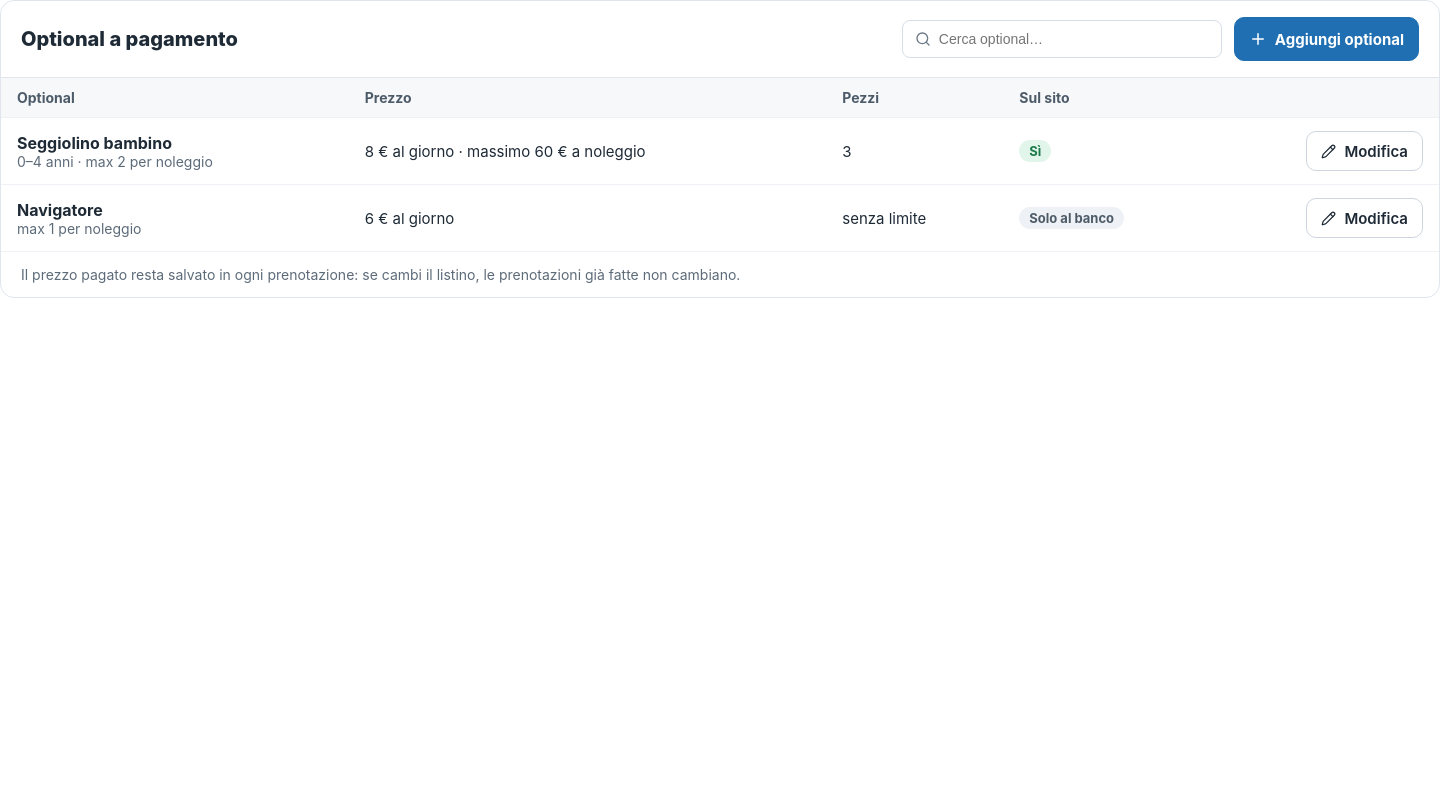
Test: le quantita' si cambiano di uno in uno con − e +
Click the button "Aggiungi optional": (1326, 39) [1234,17,1419,61]
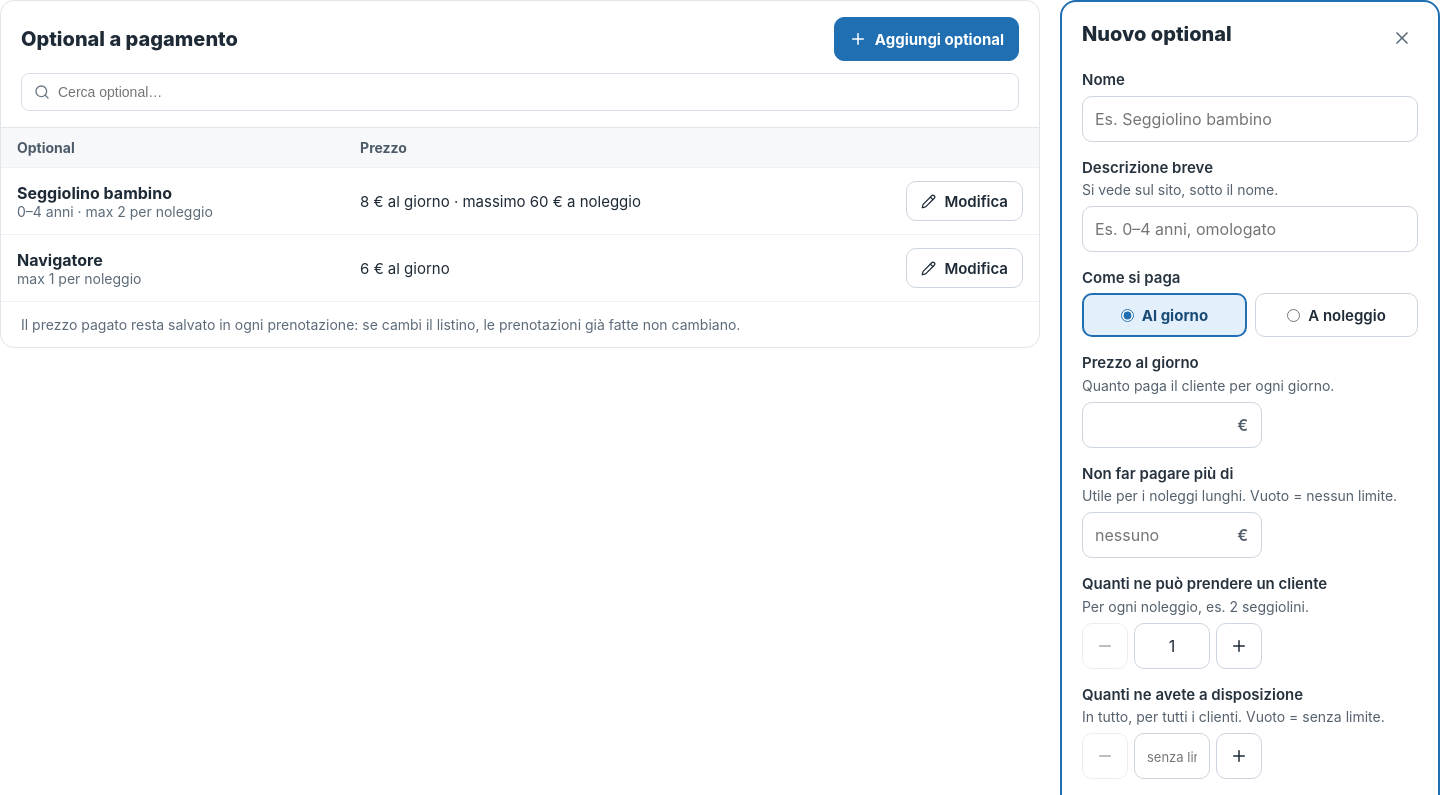
Expected: the button named "Uno in meno, per cliente" is disabled, [1082,623,1128,669]
Expected: the field labelled "Quanti ne può prendere un cliente" holds "1", [1134,623,1210,669]
Click the button named "Uno in più, per cliente": (1239, 646) [1216,623,1262,669]
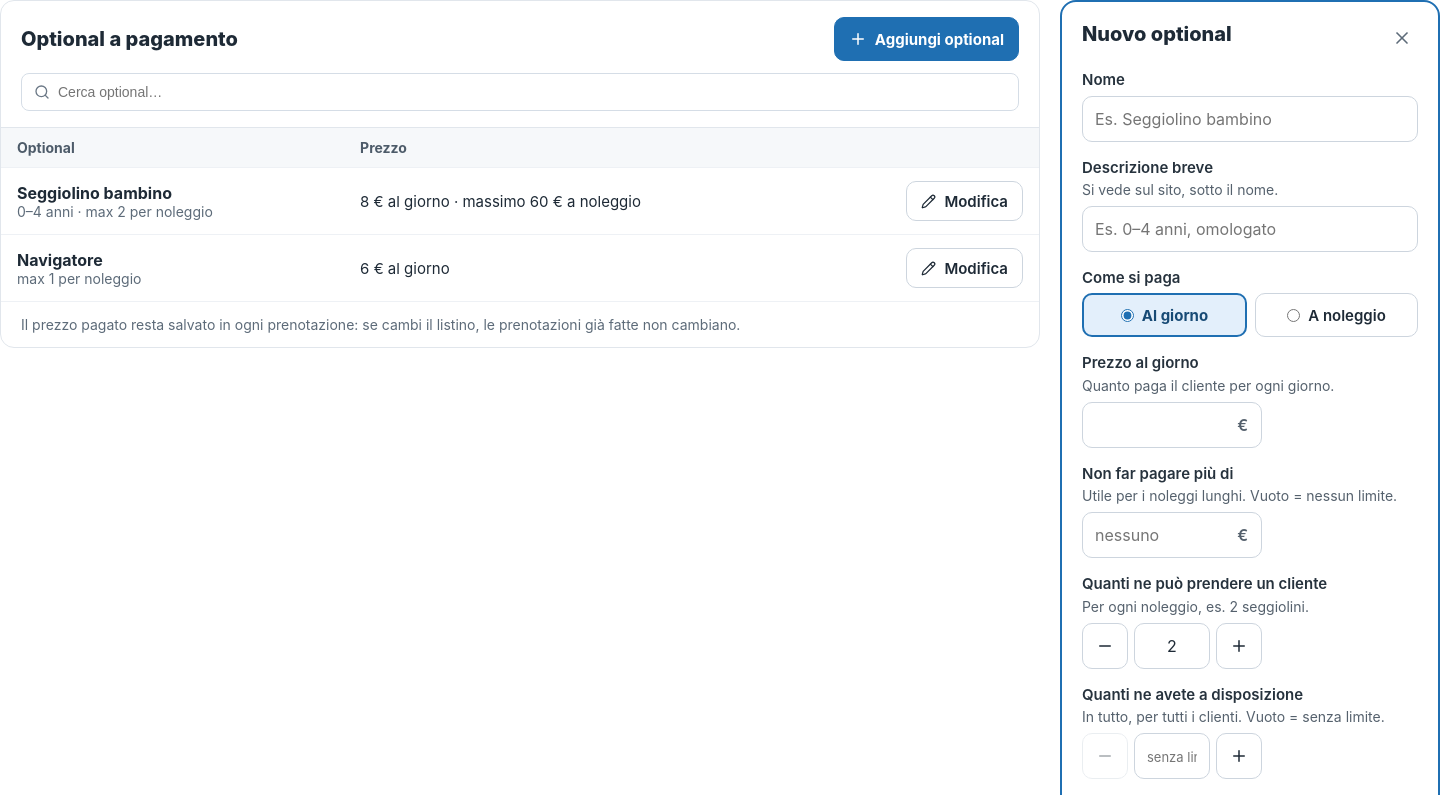
Expected: the field labelled "Quanti ne avete a disposizione" is empty, [1134,733,1210,779]
Expected: the field labelled "Quanti ne può prendere un cliente" holds "2", [1134,623,1210,669]
Click the button named "Uno in più, a disposizione": (1239, 756) [1216,733,1262,779]
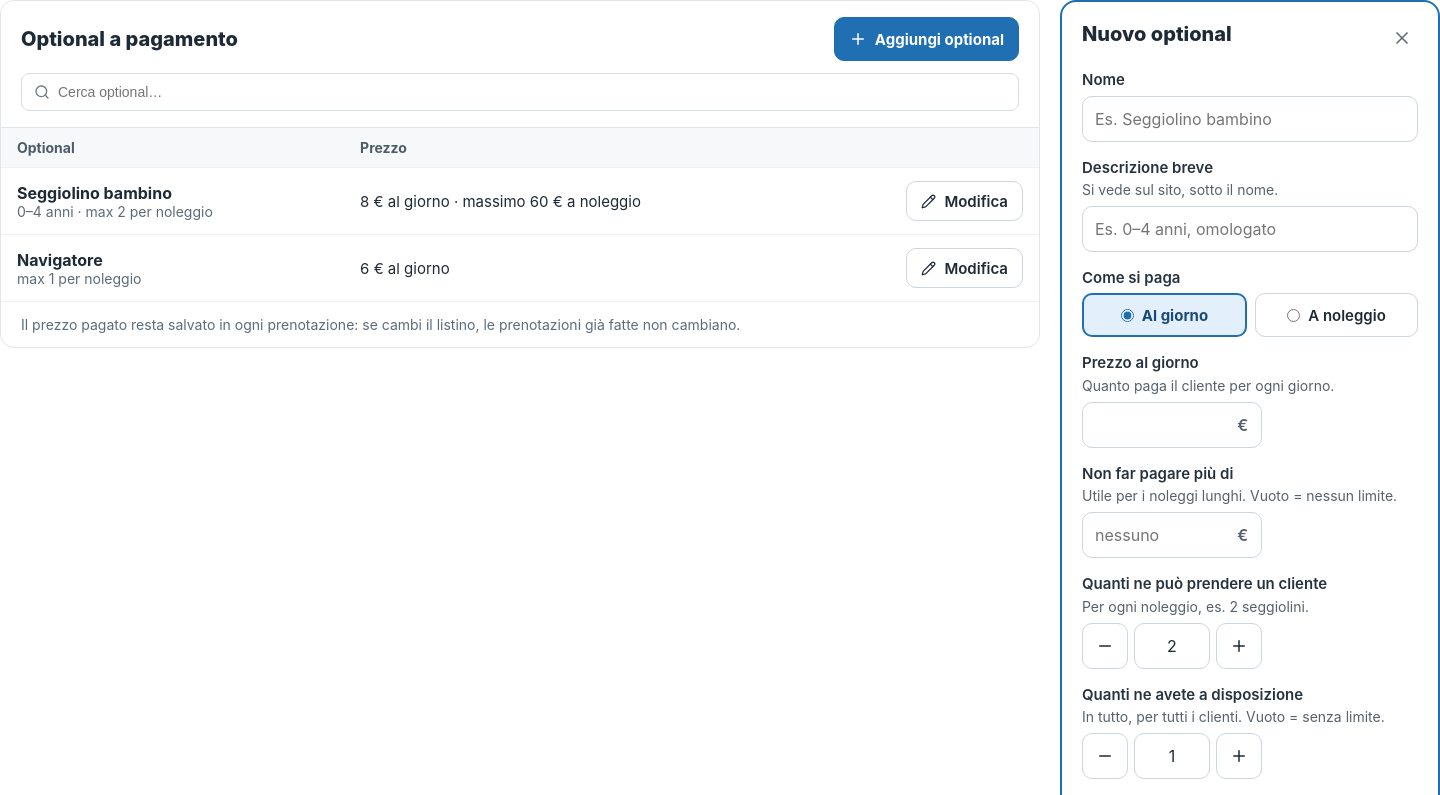
Expected: the field labelled "Quanti ne avete a disposizione" holds "1", [1134,733,1210,779]
Click the button named "Uno in meno, a disposizione": (1105, 756) [1082,733,1128,779]
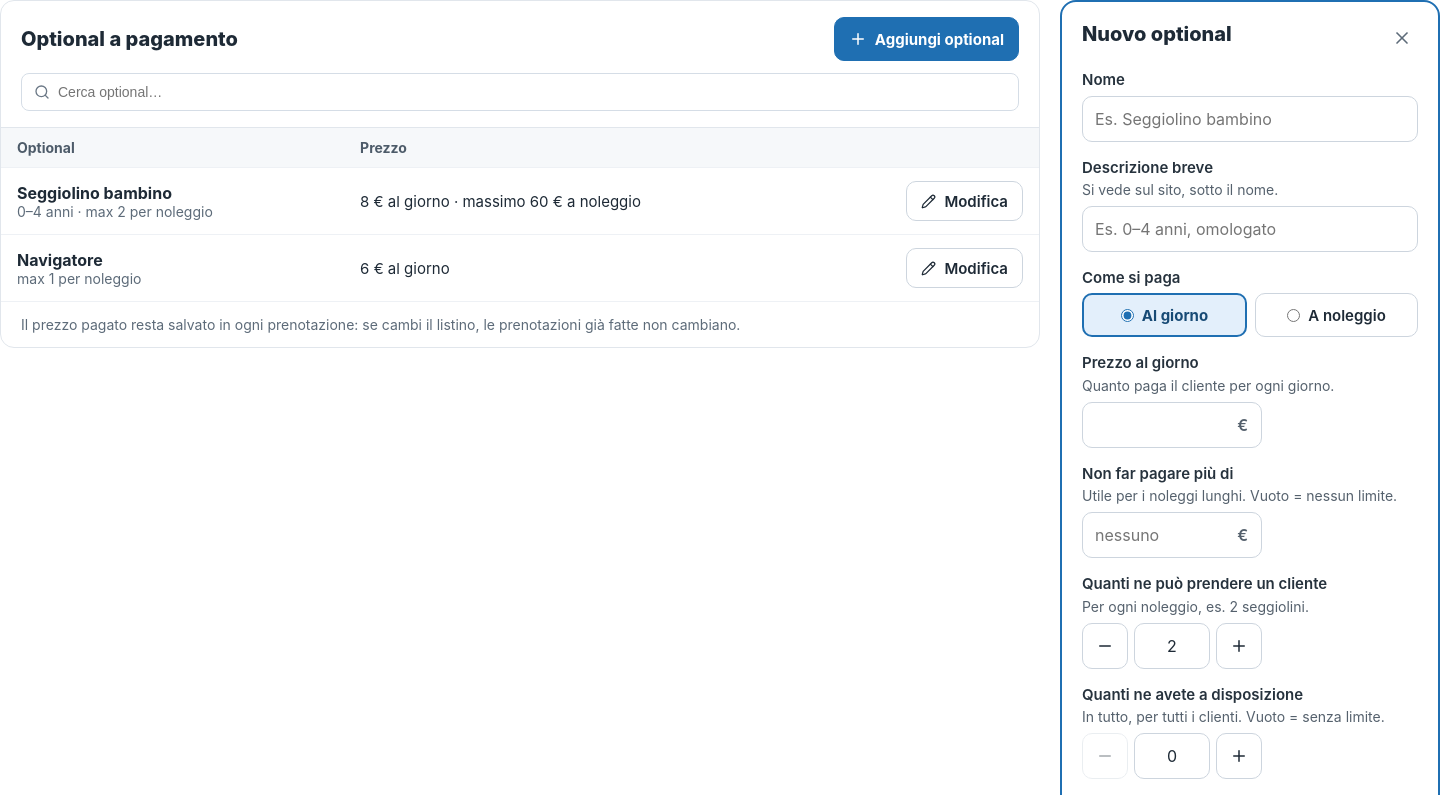
Expected: the field labelled "Quanti ne avete a disposizione" holds "0", [1134,733,1210,779]
